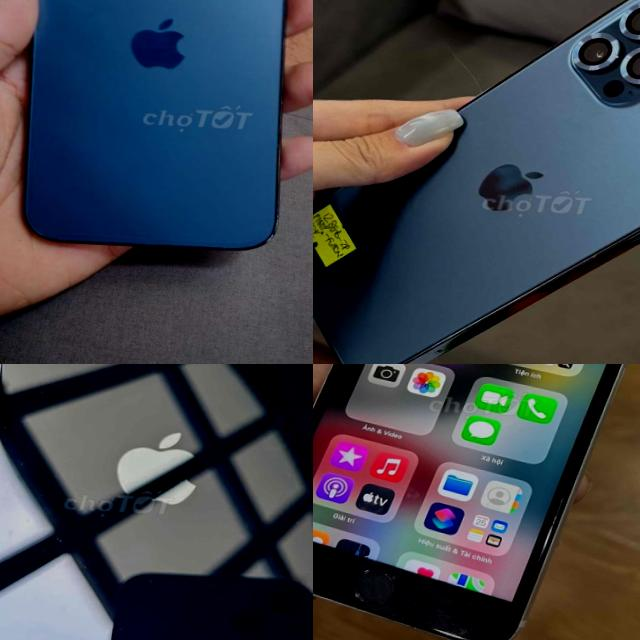scratch: (0, 364, 57, 445), (274, 371, 313, 489), (184, 613, 313, 640)
